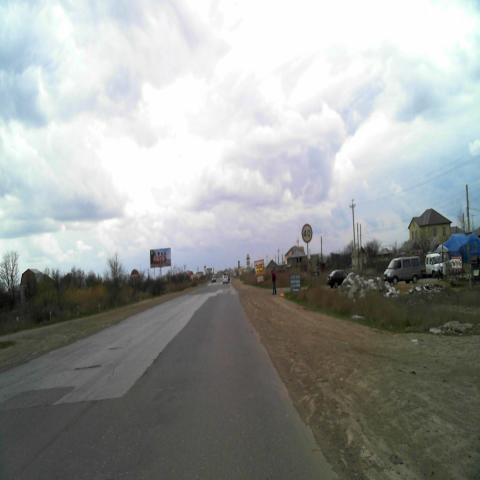3_24: (301, 224, 312, 244)
